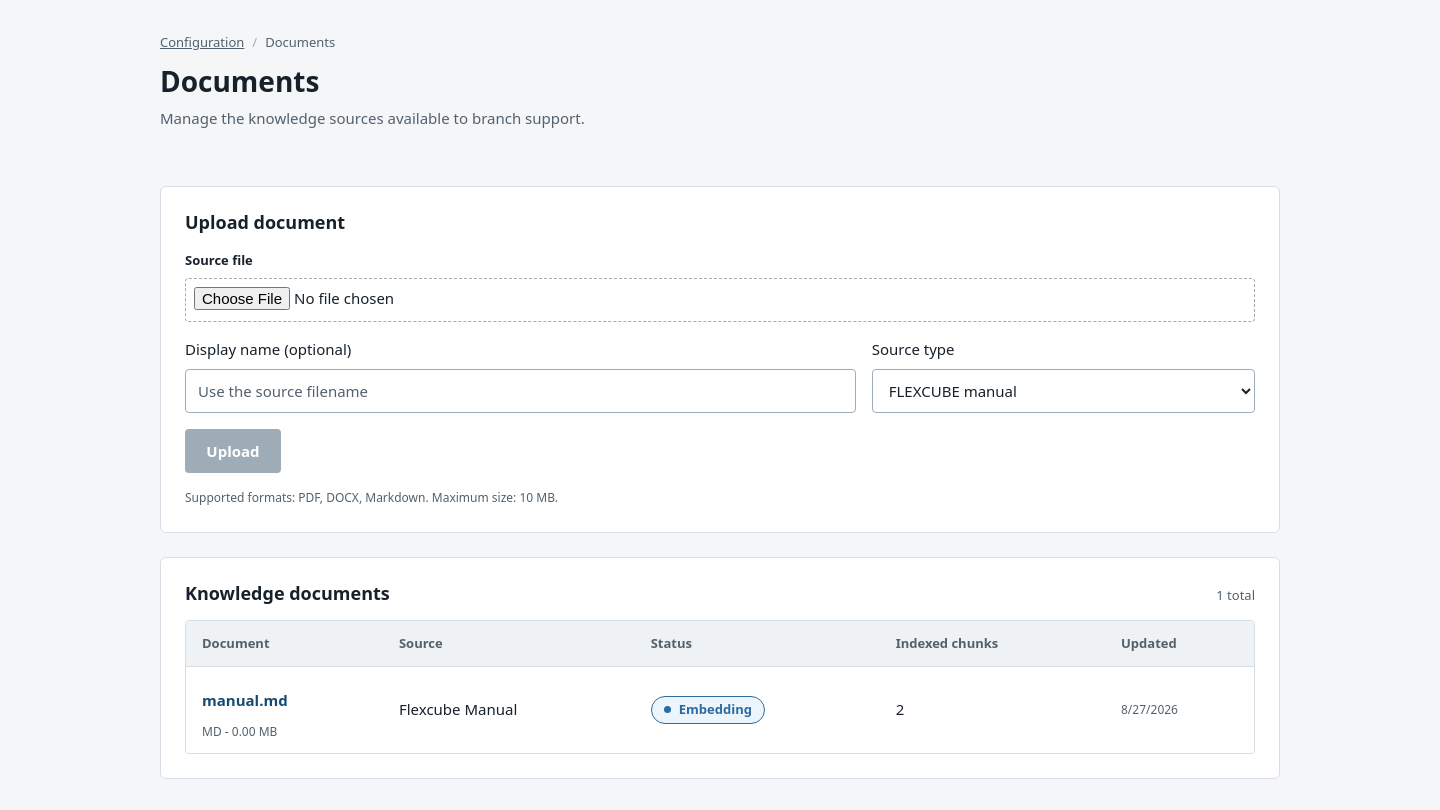
Test: document lifecycle › shows the active-ingestion conflict without removing the document
This screenshot has width=1440, height=810.
Click the button "manual.md" at (245, 700), box top-left (202, 678), bottom-right (288, 722)
(page scrolled)
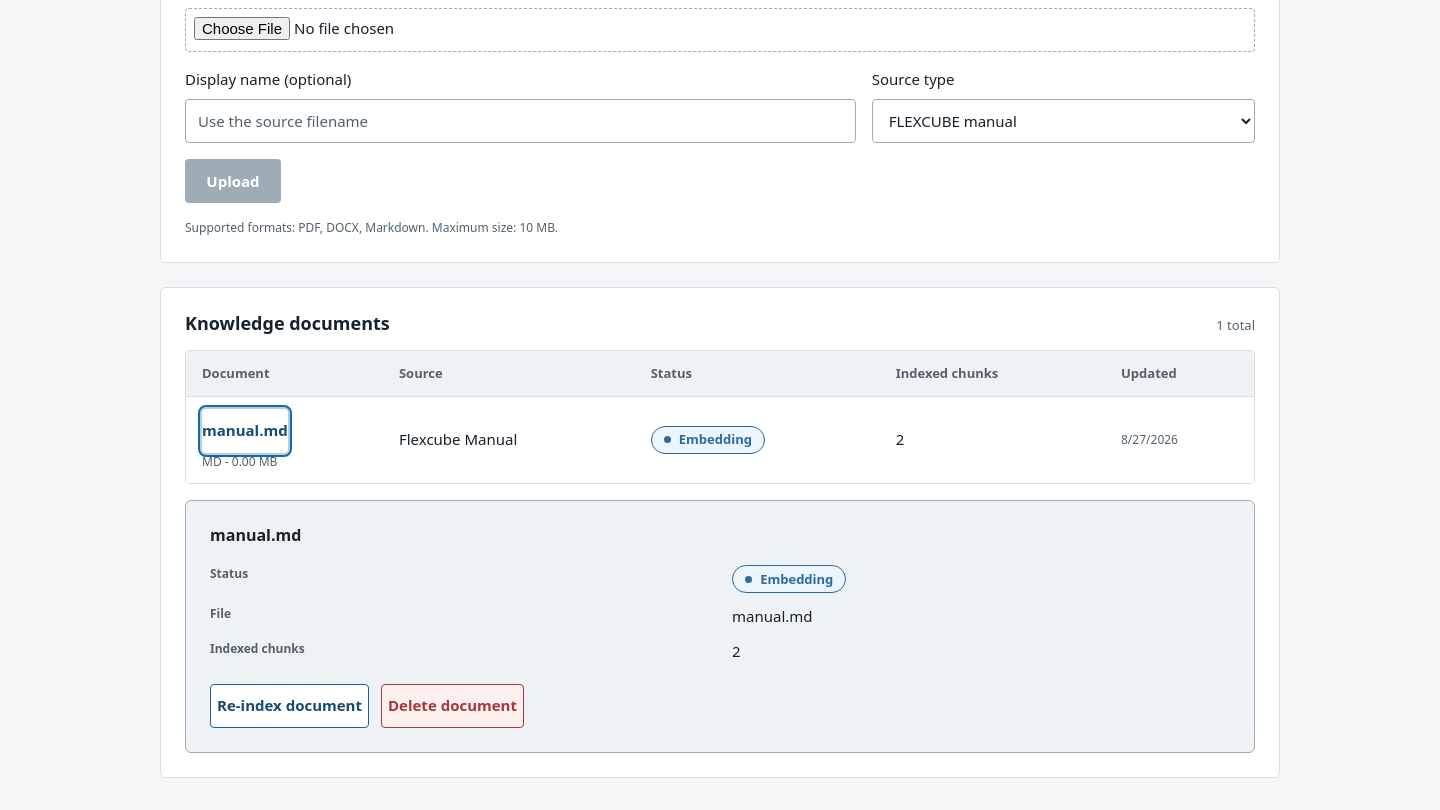
Click the button "Delete document" at (452, 706), box top-left (381, 684), bottom-right (524, 728)
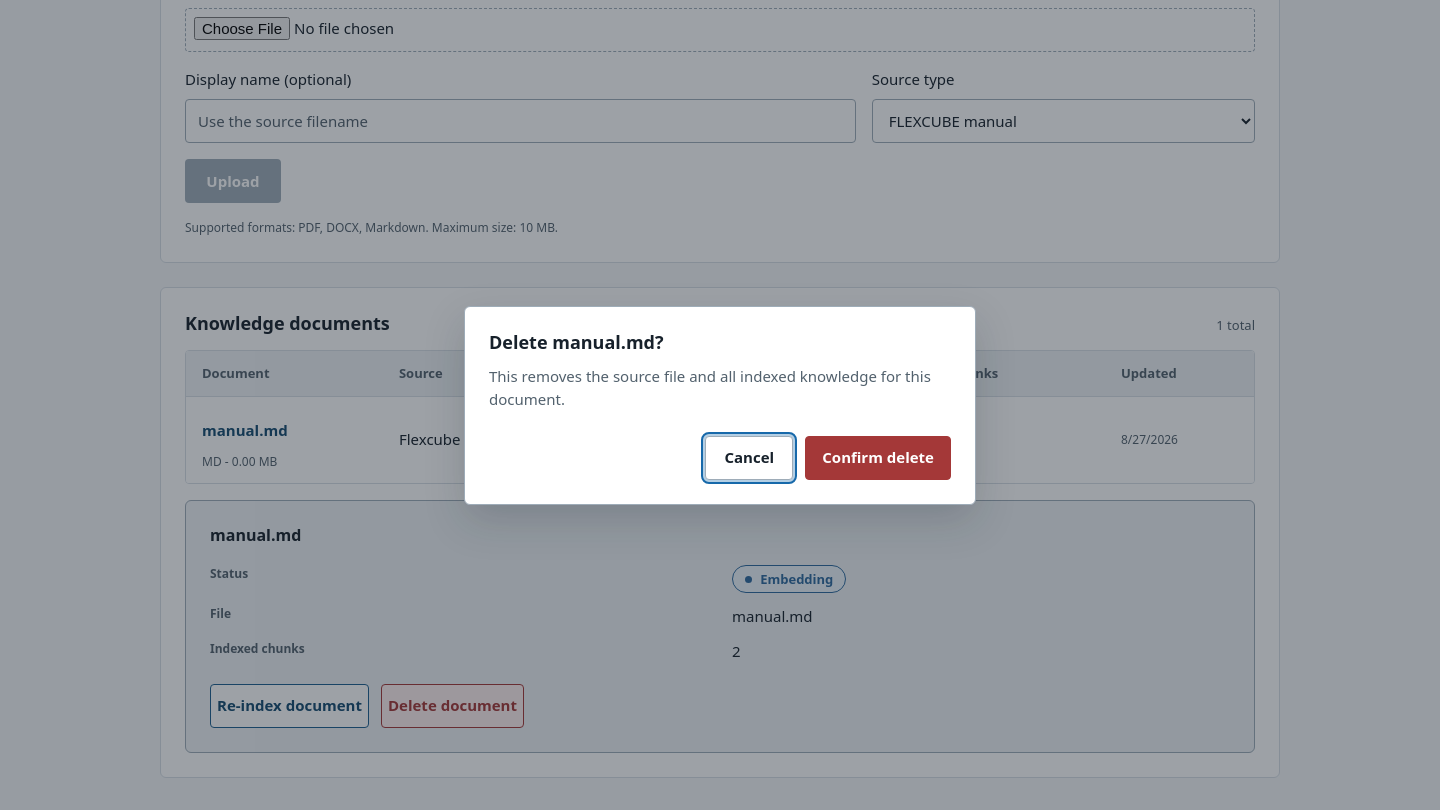
Click the button "Confirm delete" at (878, 458), box top-left (805, 436), bottom-right (951, 480)
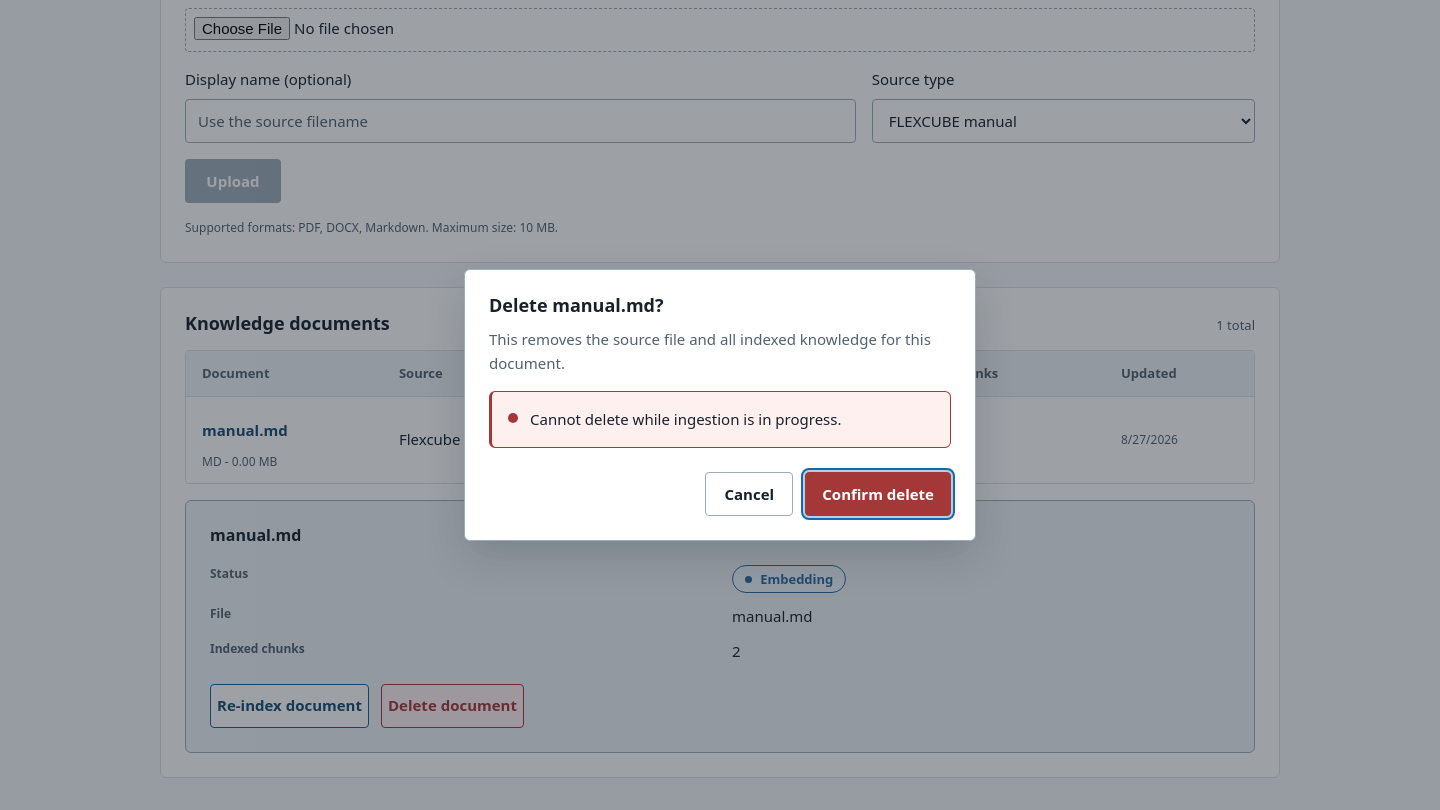
expect the message shows "Cannot delete while ingestion is in progress": met, box top-left (530, 409), bottom-right (842, 429)
